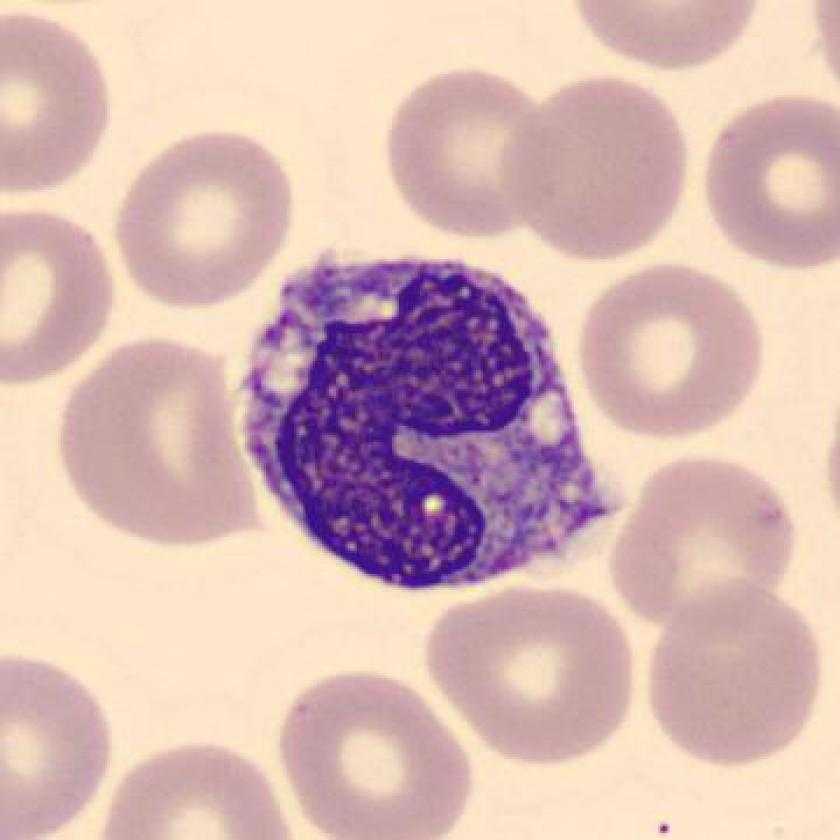monocyte: (216, 228, 636, 623)
